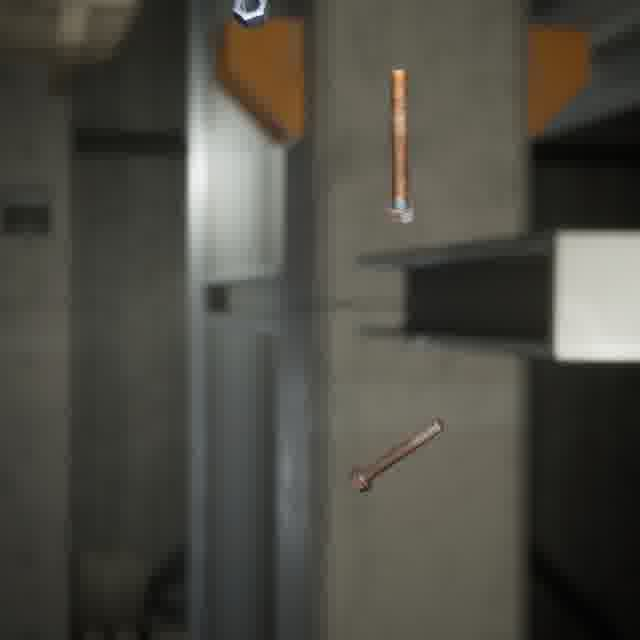bolt: (344, 414, 448, 496), (383, 61, 418, 227)
nut: (228, 0, 274, 32)
